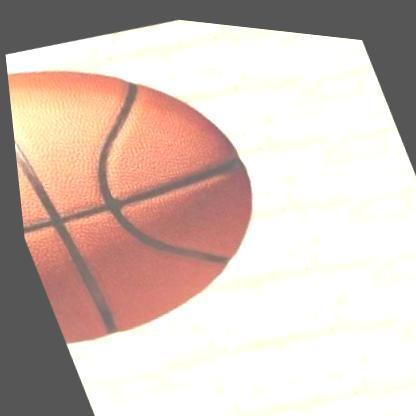basketball: (0, 2, 314, 378)
